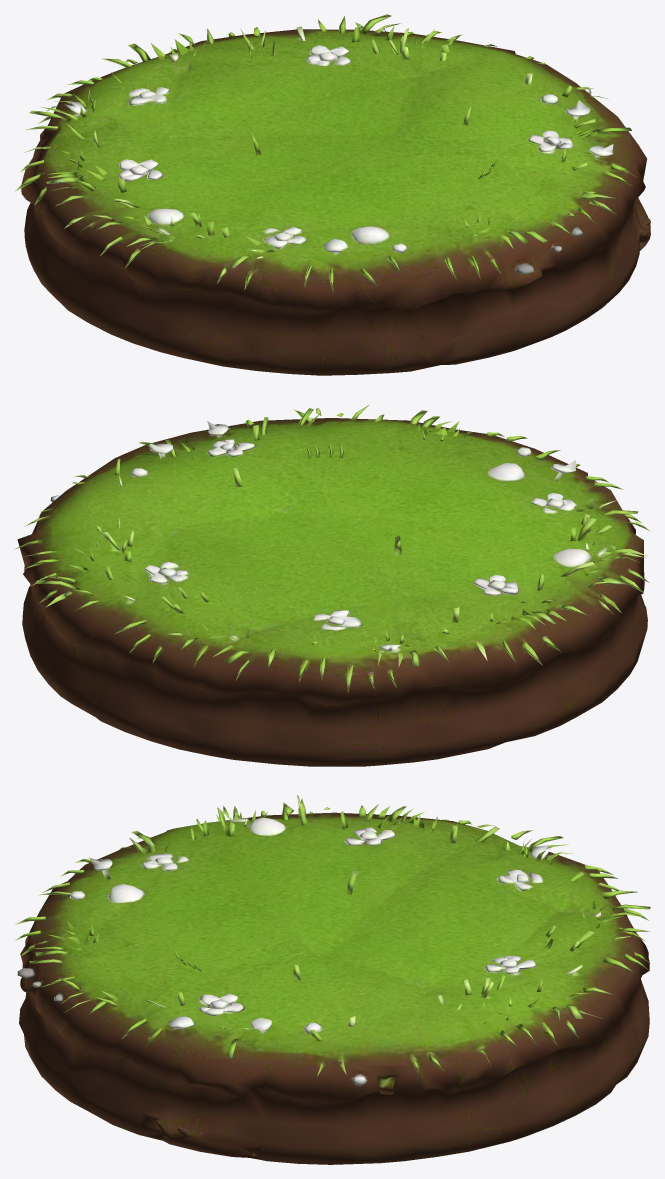
File: base-garden.55723aa2.glb
The picture shows the model from 3 angles, top to bottom: view 1: azimuth 30°, elevation 25°; view 2: azimuth 150°, elevation 25°; view 3: azimuth 270°, elevation 25°; orthographic projection.
Visible parts, largest first — view 1: tripo_node_fa082d29-9f7b-4a23-9784-06bd6b93277b; view 2: tripo_node_fa082d29-9f7b-4a23-9784-06bd6b93277b; view 3: tripo_node_fa082d29-9f7b-4a23-9784-06bd6b93277b.
Boxes of the visible parts, x1,y1,x2,y2 form: tripo_node_fa082d29-9f7b-4a23-9784-06bd6b93277b: [15, 14, 650, 375]; tripo_node_fa082d29-9f7b-4a23-9784-06bd6b93277b: [14, 404, 650, 766]; tripo_node_fa082d29-9f7b-4a23-9784-06bd6b93277b: [15, 795, 650, 1164].
Bounding box in the file's own units: 0.998 × 0.2262 × 0.998.
Materials: 1 (1 with a texture image).
